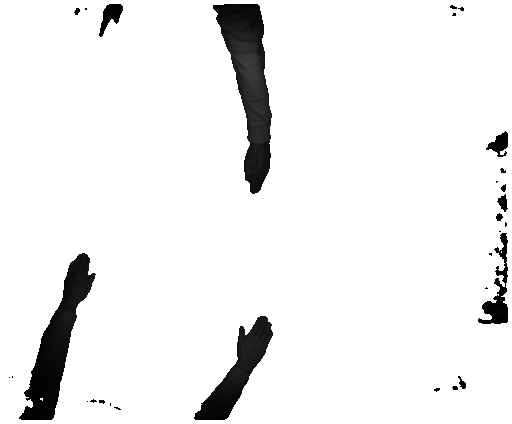hand: (237, 312, 279, 371), (60, 248, 95, 308), (240, 147, 271, 199)
